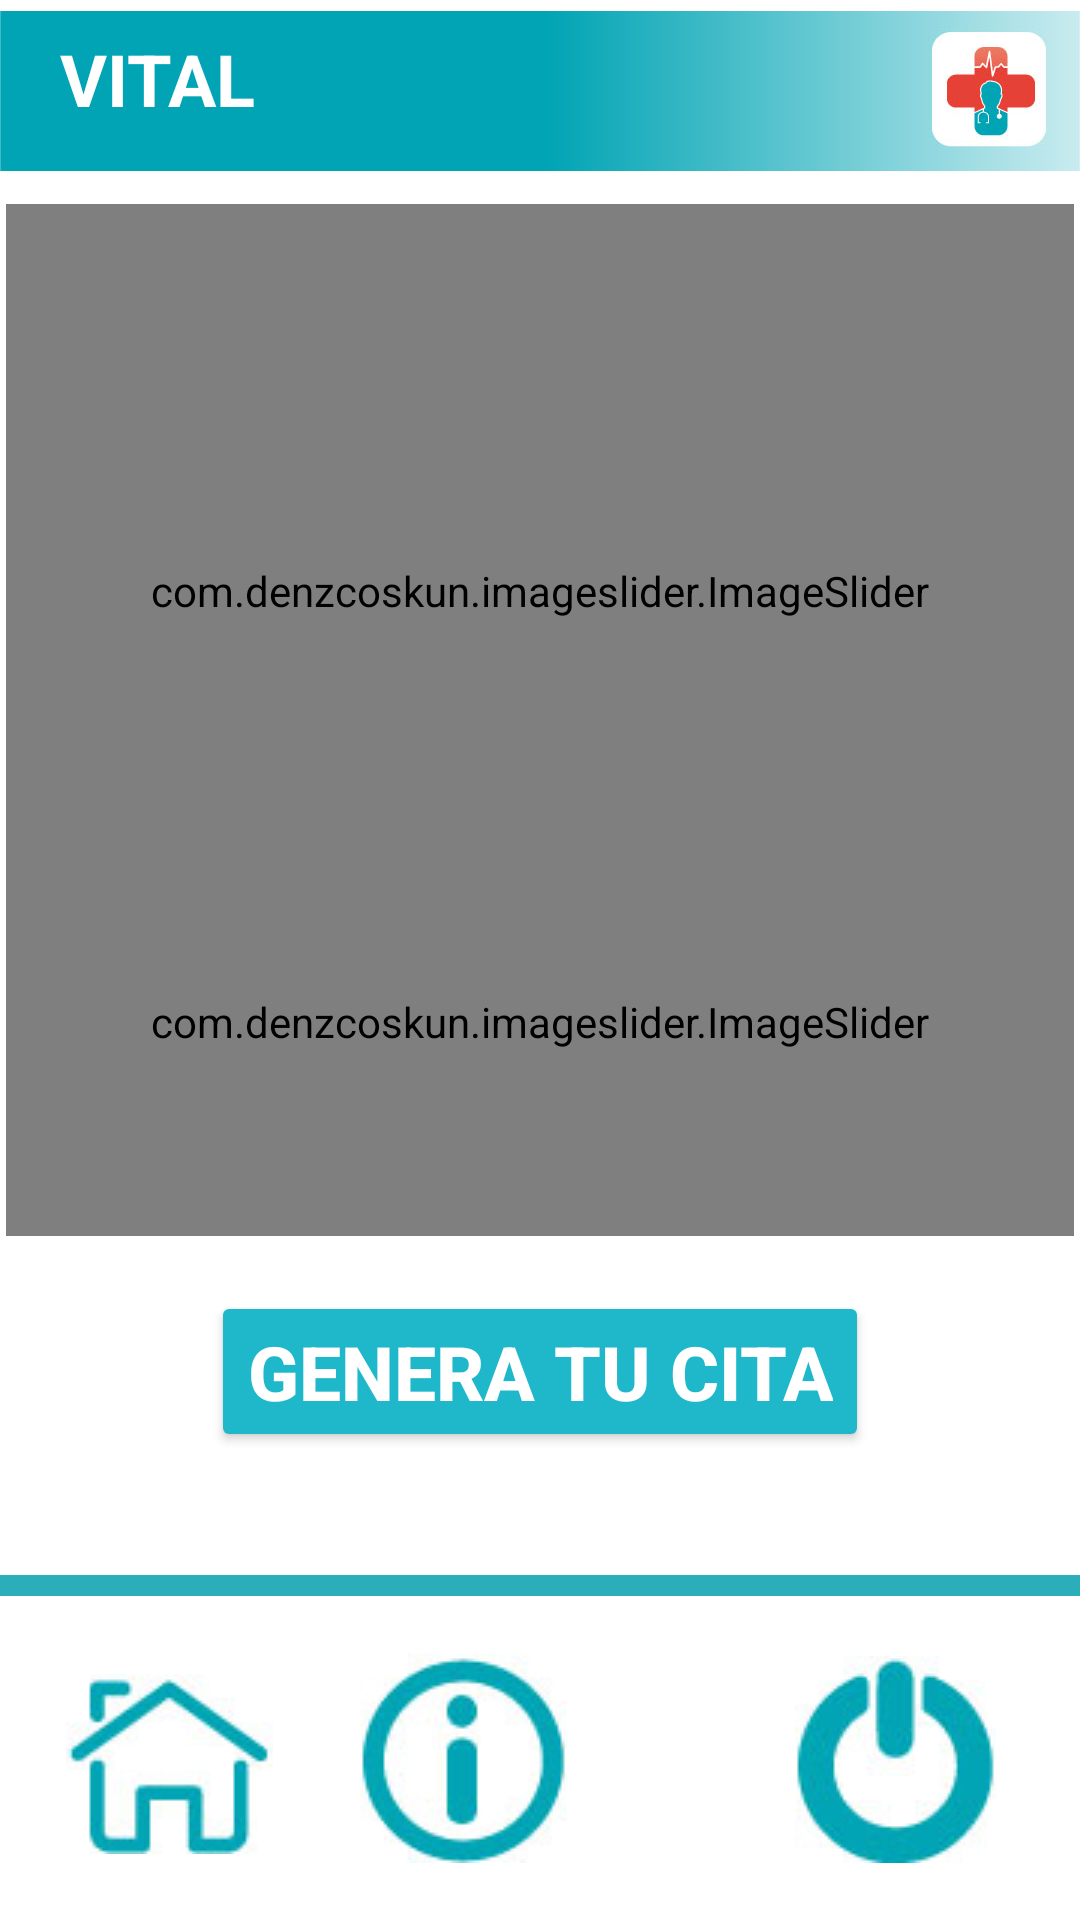

Icon bounding boxes for this 1080*1920 phone screenshot, format [x1=x1, y1=y1, x2=x2, y2=y2]:
apagar: [x1=797, y1=1658, x2=994, y2=1863]
info: [x1=362, y1=1658, x2=565, y2=1863]
inicio: [x1=68, y1=1679, x2=273, y2=1854]
